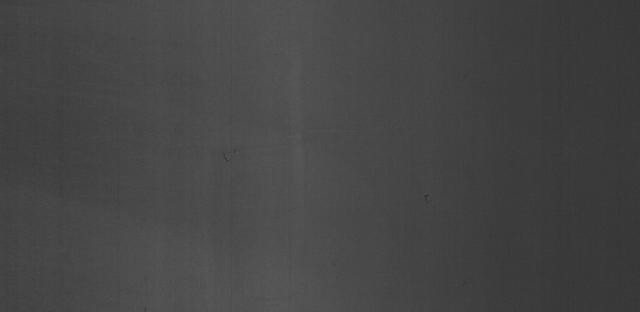inclusion: (212, 145, 243, 171), (419, 191, 436, 208)
